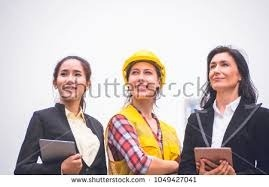helmet: (119, 46, 169, 88)
person with full safety: (105, 49, 182, 173)
person without safety: (186, 44, 268, 171), (29, 54, 109, 176)
safety vest: (109, 106, 178, 170)
